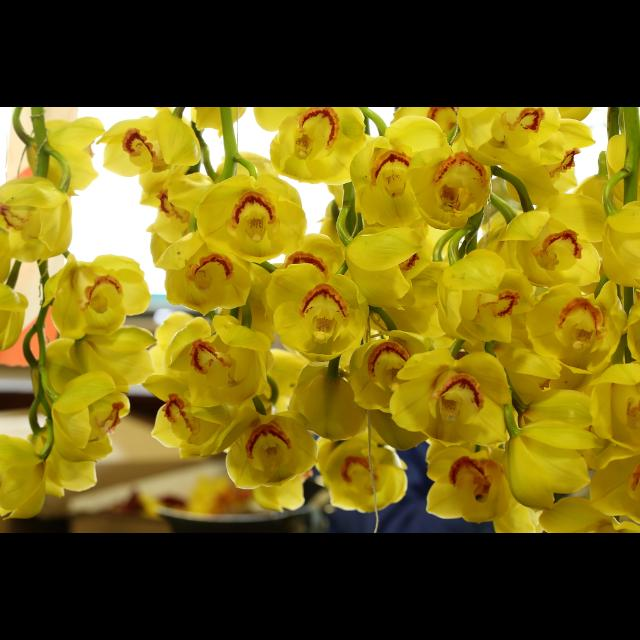Flower: (1, 107, 640, 533)
